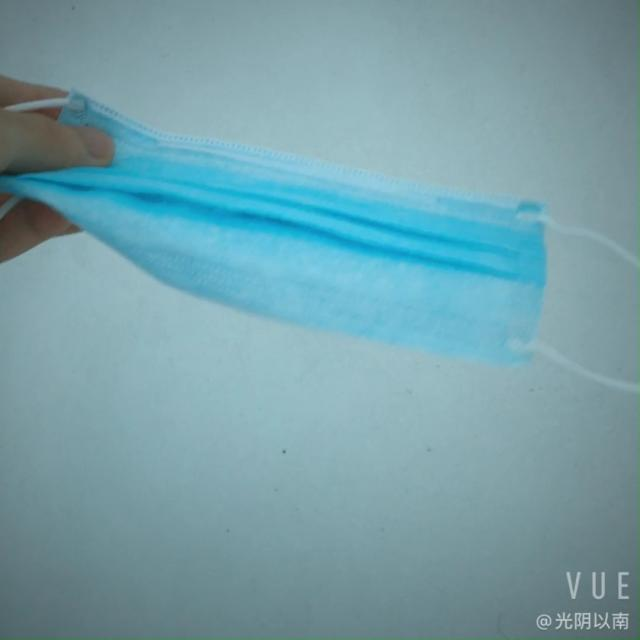face mask: (36, 110, 538, 364)
